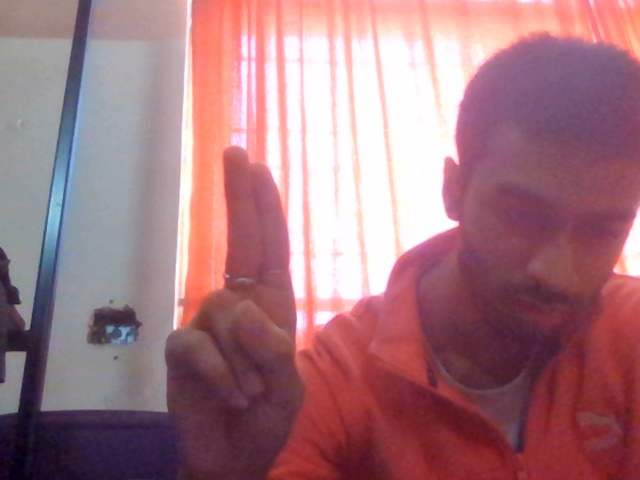U: (142, 125, 388, 480)
